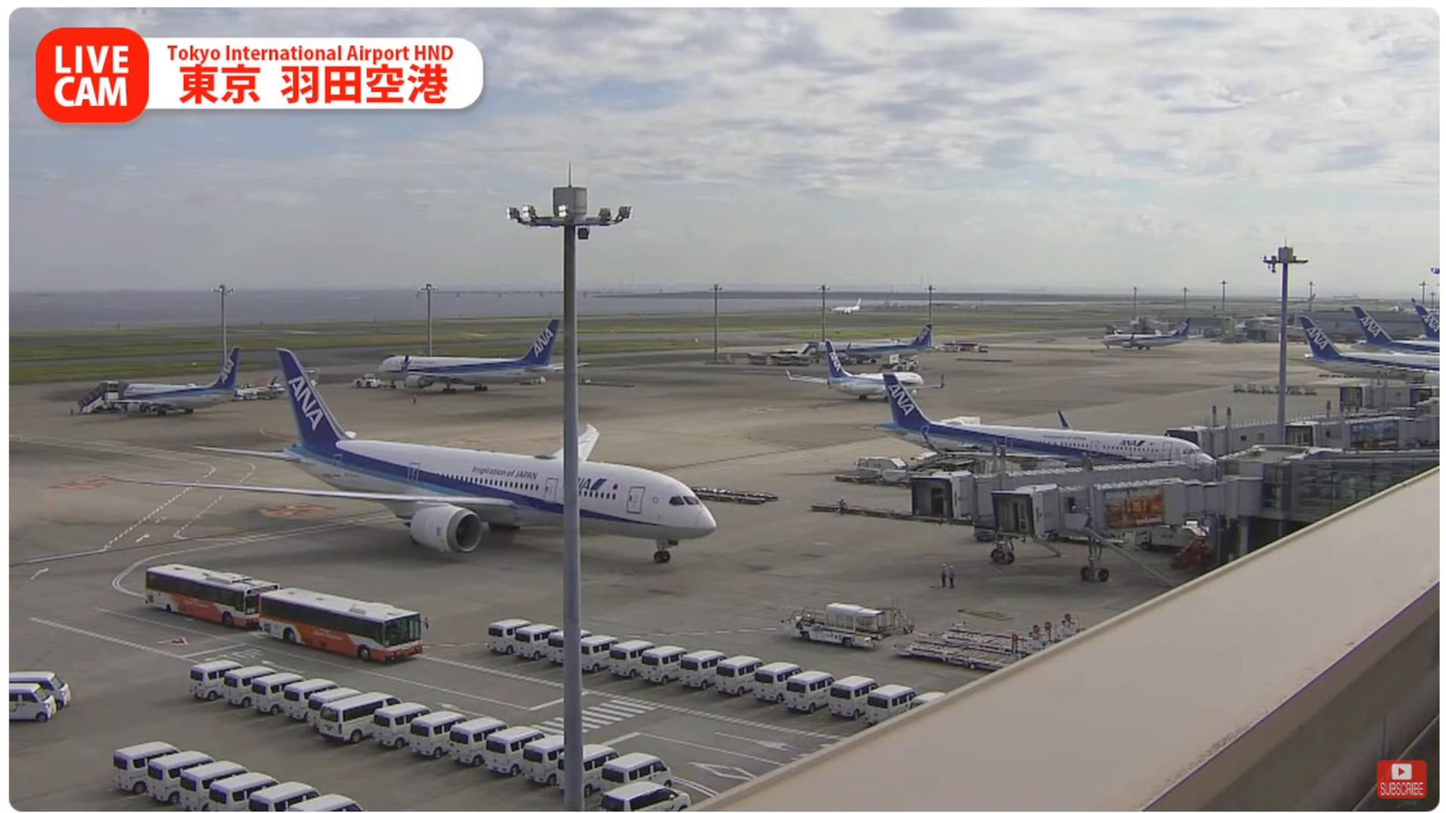Aerobridge: (908, 457, 1217, 523), (991, 476, 1264, 540)
Airplane: (107, 346, 717, 563)
Dolly: (693, 485, 775, 508)
JCPL: (895, 622, 1042, 671), (934, 610, 1089, 654)
Skyloader: (788, 603, 887, 651)
Window: (1288, 456, 1441, 524)
